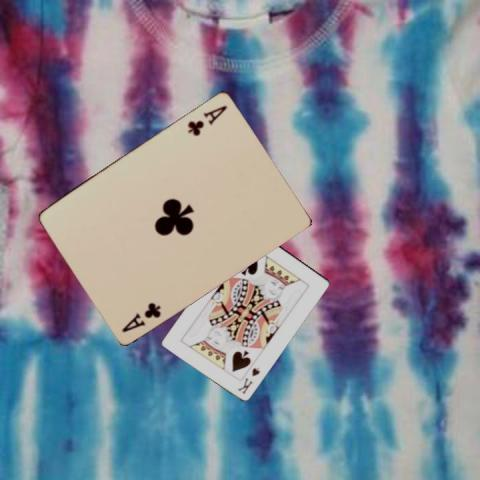Ac: (184, 102, 228, 137), (118, 299, 162, 333)
Ks: (236, 364, 262, 395)
